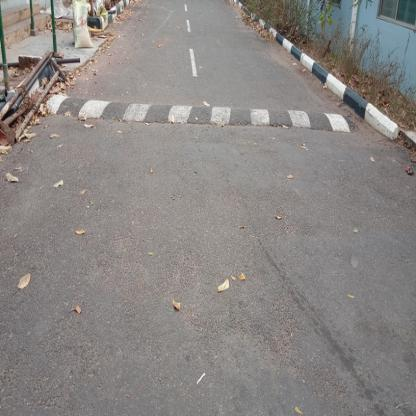speed-bumps: (49, 84, 356, 145)
